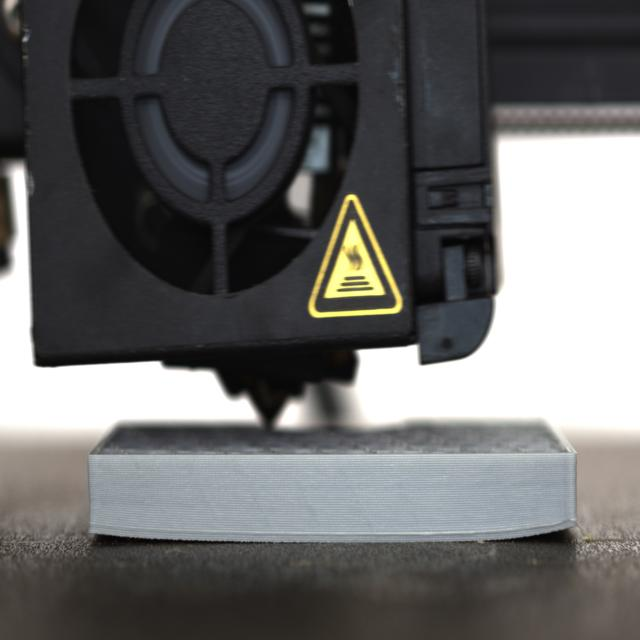Warping: (520, 511, 580, 545)
